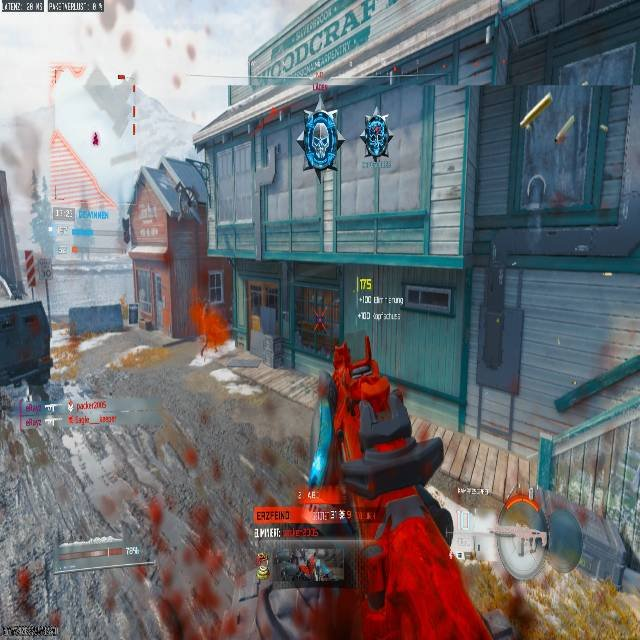player: (277, 339, 509, 640)
